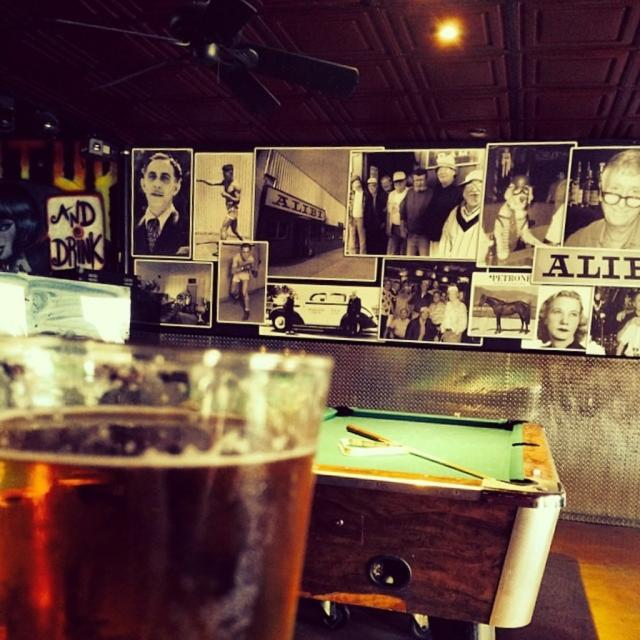Billiard table: (301, 403, 563, 639)
